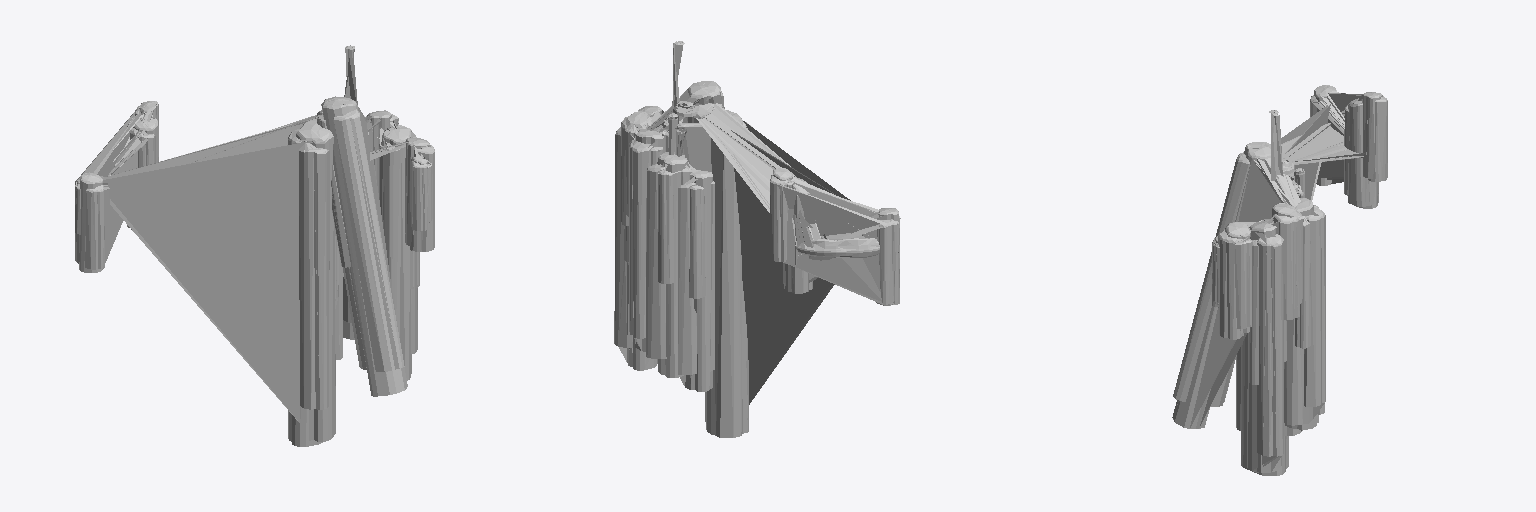
The model's file is cellWilds_SeaIsles_Proxy-sharedassets3.assets-693.obj.
3 views of the same model, side by side, from view 1: azimuth 30°, elevation 25°; view 2: azimuth 150°, elevation 25°; view 3: azimuth 270°, elevation 25° (orthographic).
Visible parts, largest first — view 1: cellWilds_SeaIsles_Proxy_0, cellWilds_SeaIsles_Proxy_4, cellWilds_SeaIsles_Proxy_1; view 2: cellWilds_SeaIsles_Proxy_0, cellWilds_SeaIsles_Proxy_4, cellWilds_SeaIsles_Proxy_1; view 3: cellWilds_SeaIsles_Proxy_4, cellWilds_SeaIsles_Proxy_0, cellWilds_SeaIsles_Proxy_1.
Part boxes in pixels (bbox=[...]): cellWilds_SeaIsles_Proxy_0: bbox=[75, 45, 434, 446]; cellWilds_SeaIsles_Proxy_4: bbox=[75, 96, 434, 446]; cellWilds_SeaIsles_Proxy_1: bbox=[130, 100, 431, 394]; cellWilds_SeaIsles_Proxy_0: bbox=[615, 41, 899, 437]; cellWilds_SeaIsles_Proxy_4: bbox=[614, 81, 900, 437]; cellWilds_SeaIsles_Proxy_1: bbox=[616, 81, 856, 388]; cellWilds_SeaIsles_Proxy_4: bbox=[1173, 85, 1387, 475]; cellWilds_SeaIsles_Proxy_0: bbox=[1172, 86, 1387, 475]; cellWilds_SeaIsles_Proxy_1: bbox=[1175, 99, 1370, 469].
Bounding box in the file's own units: 88.46 × 103 × 53.06.